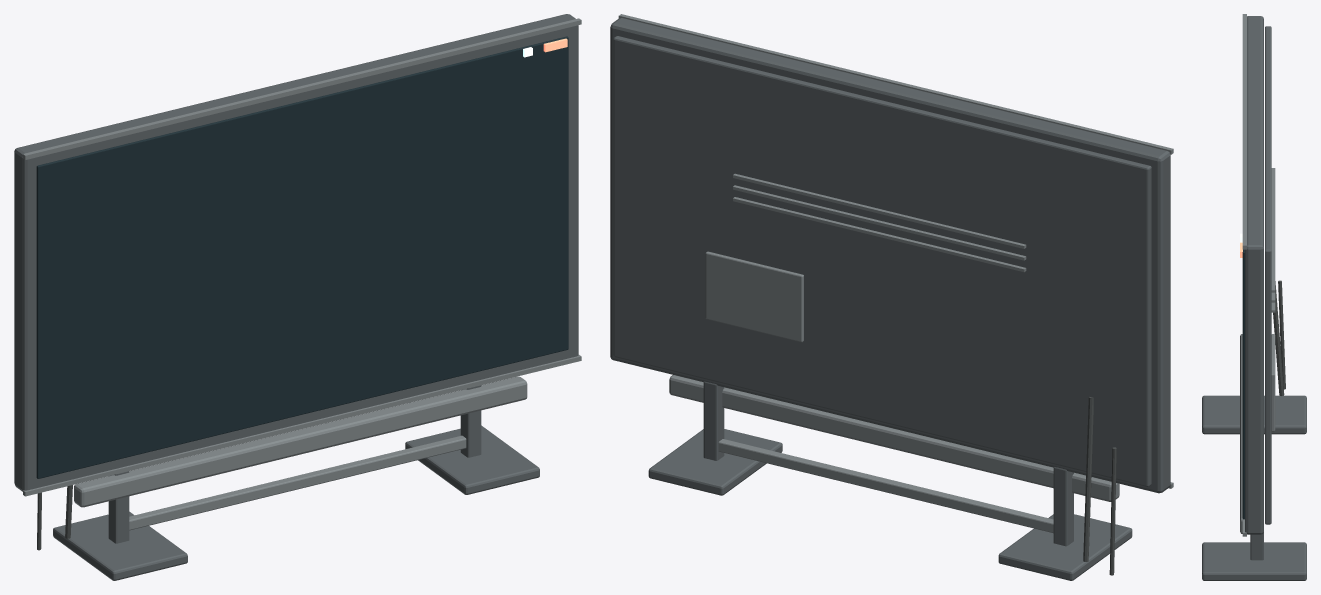
Rendered from plasma_tv.glb.
The picture shows the model from 3 angles, left to right: view 1: azimuth 30°, elevation 25°; view 2: azimuth 150°, elevation 25°; view 3: azimuth 270°, elevation 25°; orthographic projection. The views are drawn at different scales.
Parts seen in each view (by area): view 1: plasma_tv; view 2: plasma_tv; view 3: plasma_tv.
Boxes of the visible parts, x1,y1,x2,y2 form: plasma_tv: (14, 14, 581, 580); plasma_tv: (610, 14, 1173, 580); plasma_tv: (1202, 14, 1306, 580).
Size of the model in its own units: 3.98 by 2.91 by 0.76.
